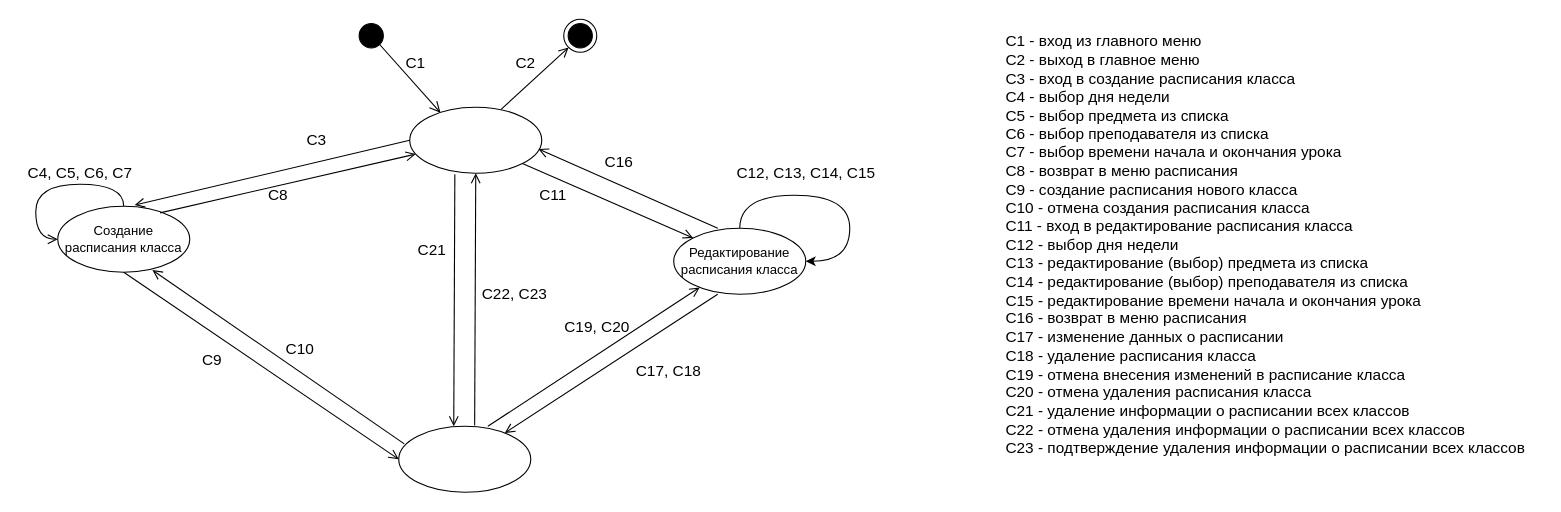
Some shapes in this 1561 by 512 pixel diagram are drawn without their labels. The shapes that lost their labels are listed below. From the top down, each one's centre as x and y in pixels, then its label:
point 475,139: Меню расписания
point 464,458: Подтверждение действия
